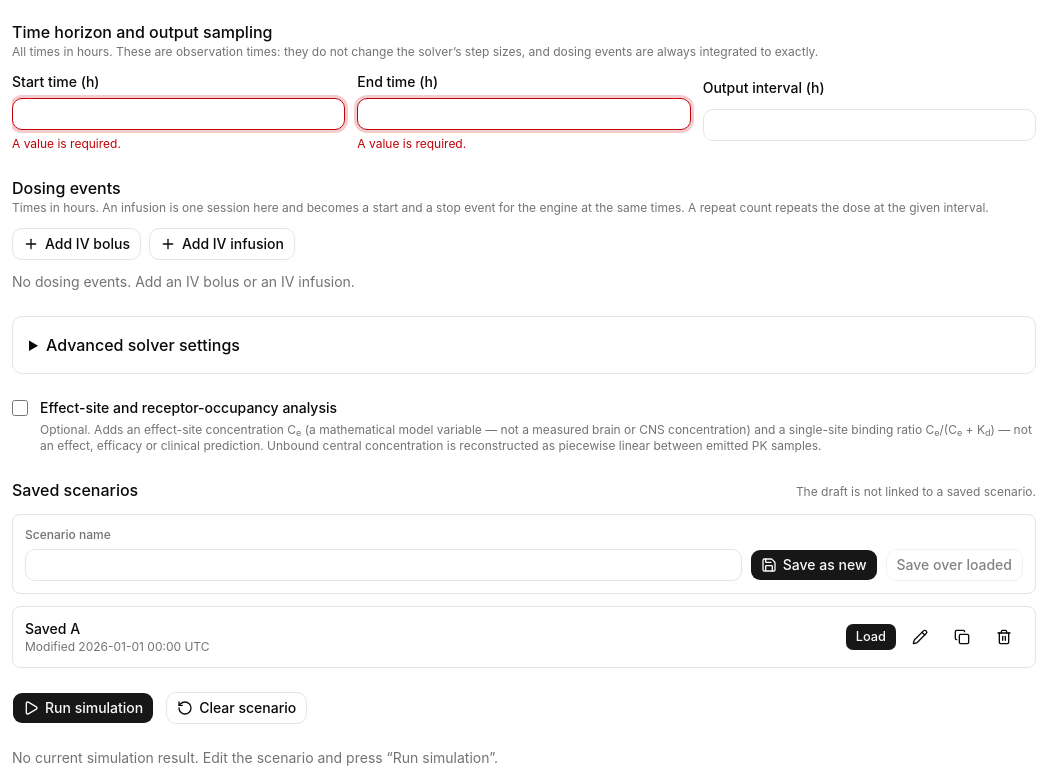
Test: saved scenarios — load and the unsaved guard › loads a saved draft into the editor and marks it loaded
The width and height of the screenshot is (1048, 768).
(page scrolled)
Click the button with test id "load-saved-1".
click(871, 637)  # box [845,623,897,651]
(page scrolled)
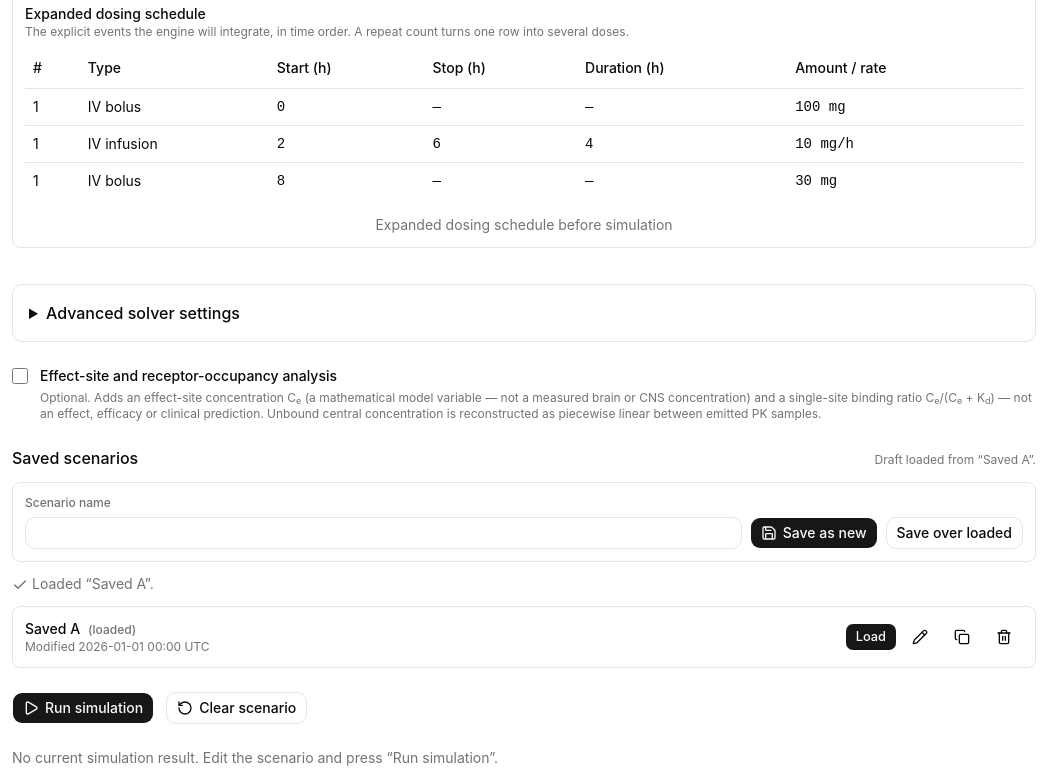
Now the message with test id "scenario-feedback" shows "Loaded “Saved A”", box [32,574,154,592]
